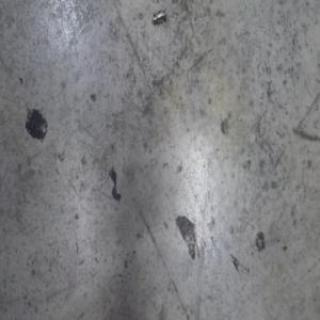Bolttrack_idkeyframe: (151, 6, 167, 26)
